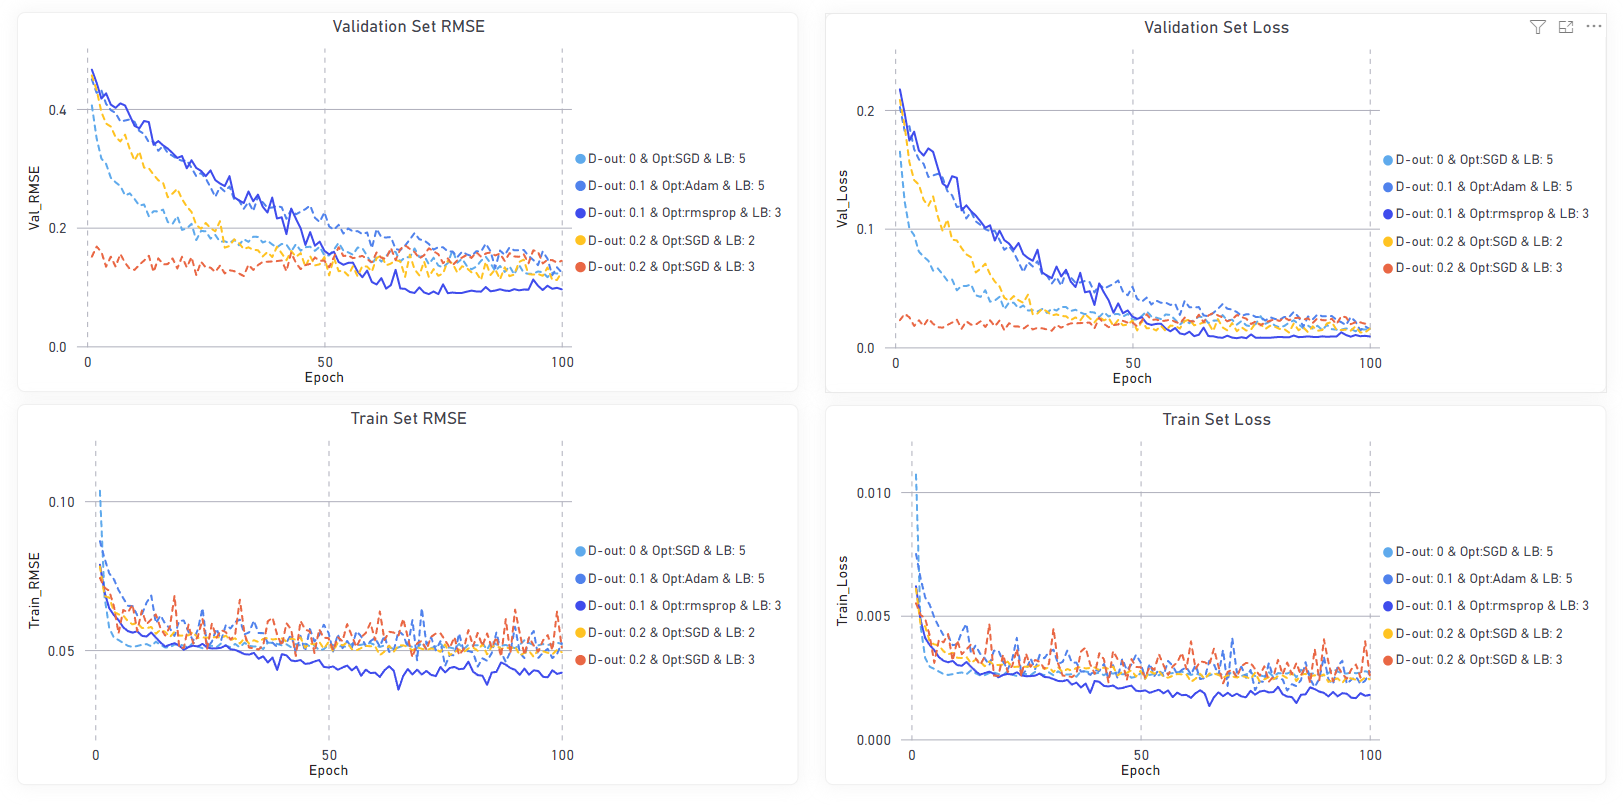

Layout of this report page (visuals, bound fields, positions):
{"tool":"powerbi","page":{"name":"LSTM_Univariate_Predictor","canvas":[1600,800],"ordinal":6},"visuals":[{"type":"lineChart","title":"Valuation Set RMSE","fields":{"Category":["stocks_lstm_no_sentiment.Epoch"],"Y":["Sum(stocks_lstm_no_sentiment.Val_RMSE)"],"Series":["stocks_lstm_no_sentiment.Params"]},"box":[17.9,16.7,834.6,373.8],"z":0},{"type":"lineChart","title":"Train Set RMSE","fields":{"Category":["stocks_lstm_no_sentiment.Epoch"],"Series":["stocks_lstm_no_sentiment.Params"],"Y":["Sum(stocks_lstm_no_sentiment.Train_RMSE)"]},"box":[17.9,408.4,834.6,373.8],"z":3001},{"type":"lineChart","title":"Valuation Set Loss","fields":{"Category":["stocks_lstm_no_sentiment.Epoch"],"Series":["stocks_lstm_no_sentiment.Params"],"Y":["Sum(stocks_lstm_no_sentiment.Val_Loss)"]},"box":[1289.8,16.7,310.2,373.8],"z":3002},{"type":"lineChart","title":"Train Set Loss","fields":{"Category":["stocks_lstm_no_sentiment.Epoch"],"Series":["stocks_lstm_no_sentiment.Params"],"Y":["Sum(stocks_lstm_no_sentiment.Train_Loss)"]},"box":[1289.8,381.6,302.4,373.8],"z":3003}]}

Visuals, with their boxes in screenshot pixels (x1, y1, x2, y2), scaled from the page's 1600x800 canvas onto the 1623x805 screenshot:
"Valuation Set RMSE" lineChart: region(18, 17, 865, 393)
"Train Set RMSE" lineChart: region(18, 411, 865, 787)
"Valuation Set Loss" lineChart: region(1308, 17, 1622, 393)
"Train Set Loss" lineChart: region(1308, 384, 1615, 760)
